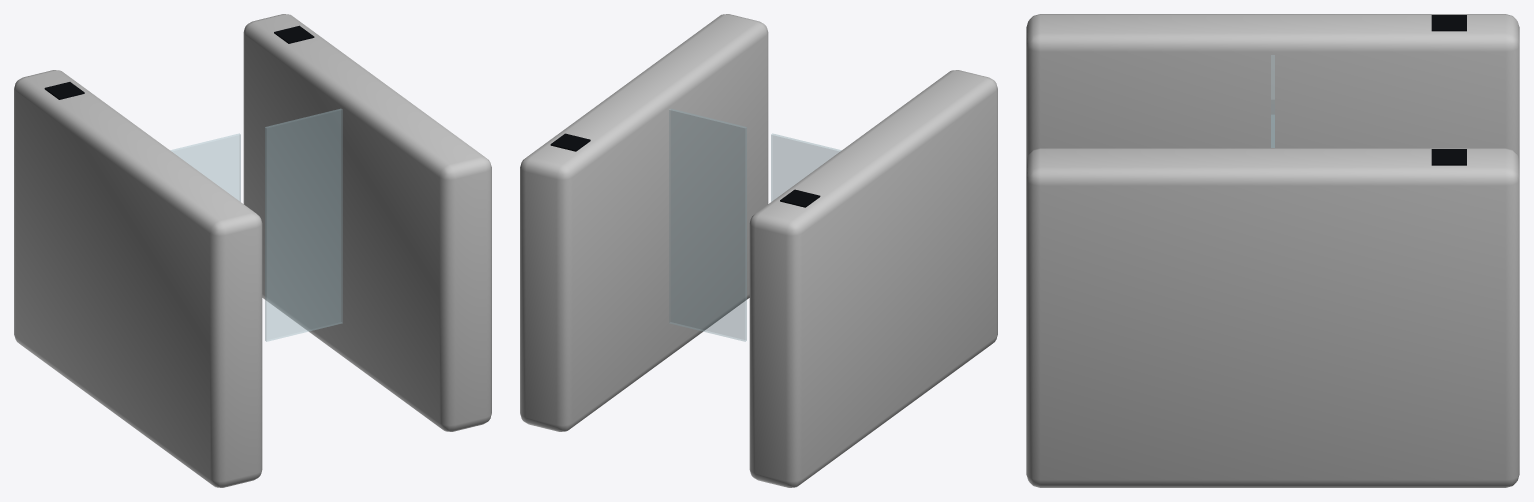
The model's file is office.entrance.speed_gate_1.glb.
The picture shows the model from 3 angles, left to right: view 1: azimuth 30°, elevation 25°; view 2: azimuth 150°, elevation 25°; view 3: azimuth 270°, elevation 25°; orthographic projection. The views are drawn at different scales.
Parts seen in each view (by area): view 1: main__steel_stainless, main__glass, main__screen; view 2: main__steel_stainless, main__glass, main__screen; view 3: main__steel_stainless, main__screen.
Boxes of the visible parts, x1,y1,x2,y2 form: main__steel_stainless: (14,14,491,487); main__glass: (170,109,342,341); main__screen: (44,25,314,99); main__steel_stainless: (520,14,997,487); main__glass: (669,109,841,341); main__screen: (550,133,820,207); main__steel_stainless: (1026,14,1519,487); main__screen: (1431,15,1466,165).
Bounding box in the file's own units: 1.1 × 1.01 × 1.4.
